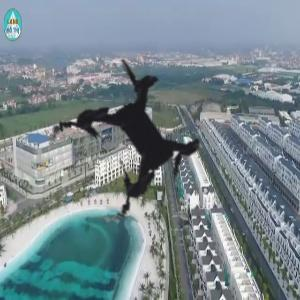drone: (5, 13, 264, 272)
